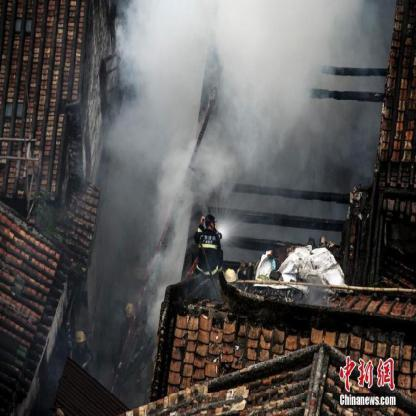smoke: (121, 1, 342, 174), (100, 179, 157, 382), (158, 180, 190, 278)
